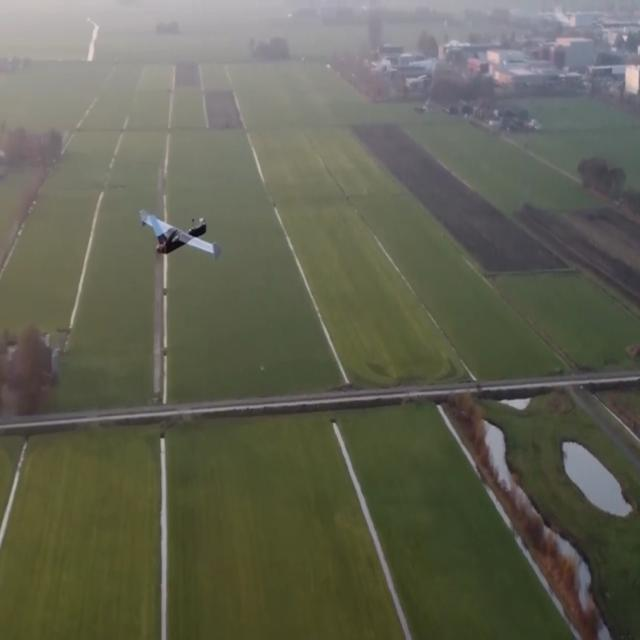iha: (174, 206, 189, 264)
